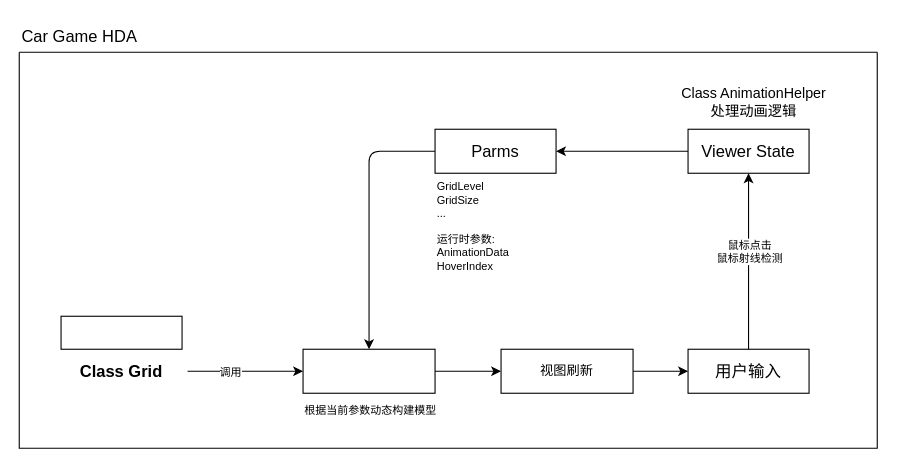
This 897x468 diagram has some shape labels left out. Each missing label, with the centre of its shape:
"Python Module" belongs at point (121, 332).
"Python SOP" belongs at point (368, 370).
